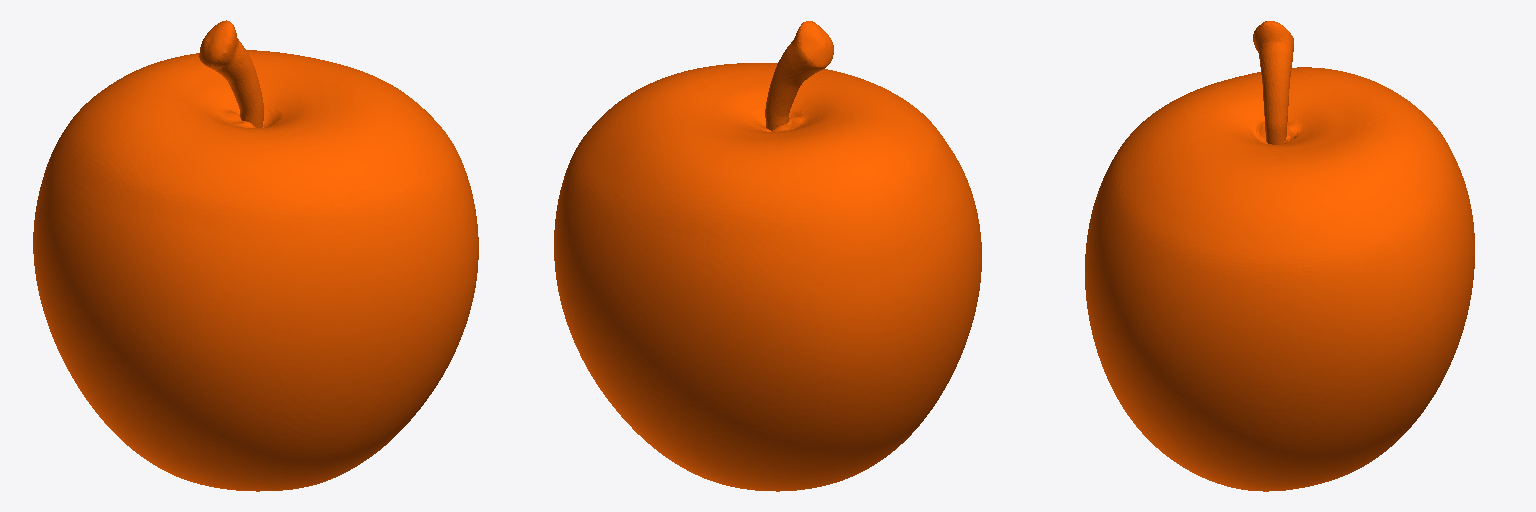
URDF robot description (apple):
<?xml version="1.0" ?>
<robot name="apple">
   <material name="obj_color">
      <color rgba="1.0 0.423529411765 0.0392156862745 1.0"/>
   </material>
   <link name="top">
      <inertial>
         <origin rpy="0.0004675878769928732 0.0004851759787394297 0.0005047078934567635" xyz="-0.0002518816531776539 2.875044534299662e-05 -0.006588522834665382"/>
         <mass value="0.6510316017388831"/>
         <inertia ixx="0.0004714217447259803" ixy="8.725989494937019e-06" ixz="2.370498776378337e-06" iyy="0.0004983866246728269" iyz="-8.872018318322834e-06" izz="0.0004876633797902592"/>
      </inertial>
      <visual>
         <origin rpy="0 0 0" xyz="0 0 0"/>
         <geometry>
            <mesh filename="top_watertight_tiny.stl" scale="1 1 1"/>
         </geometry>
         <material name="obj_color"/>
      </visual>
      <collision>
         <origin rpy="0 0 0" xyz="0 0 0"/>
         <geometry>
            <mesh filename="top_watertight_tiny.obj" scale="1 1 1"/>
         </geometry>
      </collision>
   </link>
   <link name="bottom">
      <inertial>
         <origin rpy="1.633333333194242e-08 1.633333333194243e-08 1.633333333357667e-08" xyz="0.3464080000000008 0.3464080000000008 0.3464080000000008"/>
         <mass value="0.0009800000000000017"/>
         <inertia ixx="1.633333333248717e-08" ixy="5.447480642029219e-19" ixz="5.447480642029219e-19" iyy="1.633333333248717e-08" iyz="5.447480642029219e-19" izz="1.633333333248717e-08"/>
      </inertial>
      <visual>
         <origin rpy="0 0 0" xyz="0 0 0"/>
         <geometry>
            <mesh filename="bottom_watertight_tiny.stl" scale="1 1 1"/>
         </geometry>
         <material name="obj_color"/>
      </visual>
   </link>
   <link name="world"/>
   <joint name="world_to_base" type="fixed">
      <origin xyz="0 0 0"/>
      <axis xyz="0 0 0"/>
      <parent link="world"/>
      <child link="bottom"/>
   </joint>
   <joint name="rotation" type="revolute">
      <origin xyz="0 0 0"/>
      <axis xyz="0 0 -1"/>
      <parent link="bottom"/>
      <child link="top"/>
      <dynamics damping="1.0" friction="1.0"/>
      <limit effort="0.1" velocity="0.1" lower="0" upper="0.001"/>
   </joint>
</robot>

--- What the picture shows (computed from the rendered views, not written in the file) ---
Views: 3 orthographic renders of the robot side by side, from view 1: azimuth 30°, elevation 25°; view 2: azimuth 150°, elevation 25°; view 3: azimuth 270°, elevation 25°.
Robot: apple — 3 links, 2 joints (1 revolute, 1 fixed); root link world; default pose: every joint at zero.
Visible links, largest first — view 1: top; view 2: top; view 3: top.
Link boxes in pixels (x1,y1,x2,y2): top: (33, 20, 478, 491); top: (554, 21, 981, 491); top: (1085, 21, 1474, 491).
Size in the robot's own frame: 0.0868 by 0.0819 by 0.0985 metres.
Meshes: 2 distinct files referenced, 1 mesh visuals loaded (1 binary STL); not drawn: 1 (reference not matched to a file when rendering).
